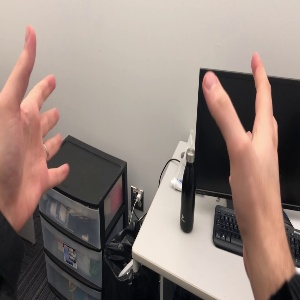hand: (203, 53, 286, 253), (1, 24, 68, 211)
